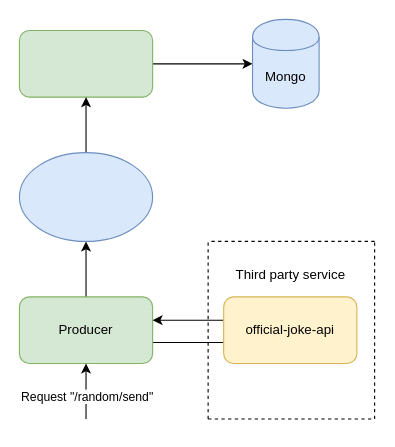
The diagram is 395 pixels wide and 447 high, and some of its shapes have lost their labels. The shapes that lost their labels are listed below. From the top down, each one's centre as x and y in pixels, then its label:
At pixel 85 63: "Consumer".
At pixel 85 196: "Kafka".
